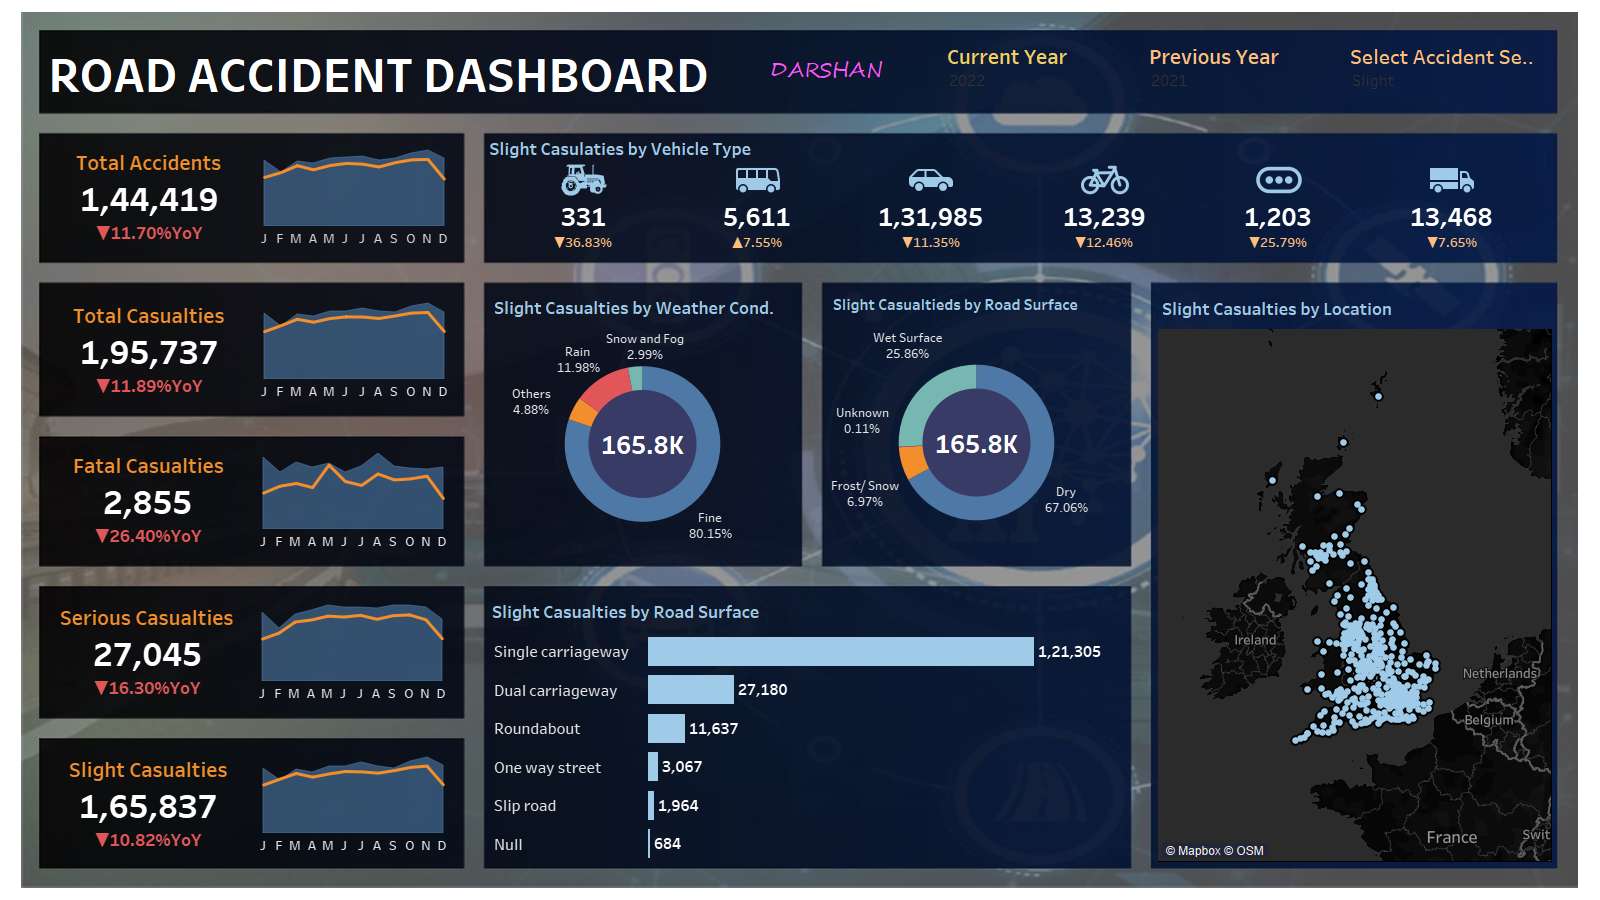

This screenshot's page, from the dashboard's own definition file:
{"tool":"tableau","page":{"name":"Road Accident Dashboard","canvas":[1600,900],"ordinal":0},"visuals":[{"type":"image","param":"E:/Tableau/Accident Background.jpg","box":[8,8,1584,884]},{"type":"parameter","param":"[Parameters].[Parameter 1]","box":[943,37,202,68]},{"type":"parameter","param":"[Parameters].[Current Year (copy)_1131529459194335233]","box":[1145,37,201,68]},{"type":"parameter","param":"[Parameters].[Parameter 2]","box":[1346,37,201,68]},{"type":"text","box":[45,40,710,65]},{"type":"text","box":[767,47,147,48]},{"type":"text","box":[486,133,462,30]},{"type":"worksheet","title":"Total Accidents","mark":"Automatic","box":[47,142,205,110]},{"type":"worksheet","title":"Accident Sparkline","mark":"Automatic","rows":["CY Accidents (copy)_1131529459195588611","Calculation_1131529459194564610"],"cols":["Accident Date"],"box":[252,142,205,110]},{"type":"worksheet","title":"Vehicle Type Images","mark":"Shape","box":[493,158,1050,39]},{"type":"worksheet","title":"Vehicle Type KPI","mark":"Automatic","box":[493,197,1050,61]},{"type":"worksheet","title":"Road Surface","mark":"Pie","rows":["Calculation_1192328054231339011","Calculation_1192328054231339011"],"box":[829,288,295,273]},{"type":"worksheet","title":"Weather Condition","mark":"Pie","rows":["Calculation_1192328054231339011","Calculation_1192328054231339011"],"box":[490,289,305,271]},{"type":"worksheet","title":"Casualties by Location","mark":"Automatic","rows":["Latitude"],"cols":["Longitude"],"box":[1158,290,393,571]},{"type":"worksheet","title":"Total Casualties","mark":"Automatic","box":[47,295,205,110]},{"type":"worksheet","title":"Total Casualties Sparkline","mark":"Automatic","rows":["CY Casualties (copy)_1131529459203432454","Calculation_1131529459202244613"],"cols":["Accident Date"],"box":[252,295,205,110]},{"type":"worksheet","title":"Fatal Casualties","mark":"Automatic","box":[46,445,205,110]},{"type":"worksheet","title":"Fatal Casualties Sparkline","mark":"Automatic","rows":["CY Fatal Casualties (copy)_1131529459207307273","Calculation_1131529459206610952"],"cols":["Accident Date"],"box":[251,445,205,110]},{"type":"worksheet","title":"Road Type","mark":"Automatic","rows":["Road_Type"],"cols":["Calculation_1131529459202244613"],"box":[488,593,636,270]},{"type":"worksheet","title":"Serious Casualties","mark":"Automatic","box":[45,597,205,110]},{"type":"worksheet","title":"Serious Casualties Sparkline","mark":"Automatic","rows":["PY Fatal Casualties (copy)_1131529459219959820","CY Fatal Casualties (copy)_1131529459219488779"],"cols":["Accident Date"],"box":[250,597,205,110]},{"type":"worksheet","title":"Slight Casualties","mark":"Automatic","box":[46,749,205,110]},{"type":"worksheet","title":"Slight Casualties Sparkline","mark":"Automatic","rows":["PY Serious Casualties (copy)_1131529459221233679","CY Serious Casualties (copy)_1131529459221057550"],"cols":["Accident Date"],"box":[251,749,205,110]}]}

Visuals, with their boxes in screenshot pixels (x1, y1, x2, y2), scaled from the page's 1600x900 canvas onto the 1600x900 screenshot:
image: 8, 8, 1592, 892
parameter: 943, 37, 1145, 105
parameter: 1145, 37, 1346, 105
parameter: 1346, 37, 1547, 105
text: 45, 40, 755, 105
text: 767, 47, 914, 95
text: 486, 133, 948, 163
"Total Accidents" worksheet: 47, 142, 252, 252
"Accident Sparkline" worksheet: 252, 142, 457, 252
"Vehicle Type Images" worksheet (Shape marks): 493, 158, 1543, 197
"Vehicle Type KPI" worksheet: 493, 197, 1543, 258
"Road Surface" worksheet (Pie marks): 829, 288, 1124, 561
"Weather Condition" worksheet (Pie marks): 490, 289, 795, 560
"Casualties by Location" worksheet: 1158, 290, 1551, 861
"Total Casualties" worksheet: 47, 295, 252, 405
"Total Casualties Sparkline" worksheet: 252, 295, 457, 405
"Fatal Casualties" worksheet: 46, 445, 251, 555
"Fatal Casualties Sparkline" worksheet: 251, 445, 456, 555
"Road Type" worksheet: 488, 593, 1124, 863
"Serious Casualties" worksheet: 45, 597, 250, 707
"Serious Casualties Sparkline" worksheet: 250, 597, 455, 707
"Slight Casualties" worksheet: 46, 749, 251, 859
"Slight Casualties Sparkline" worksheet: 251, 749, 456, 859
